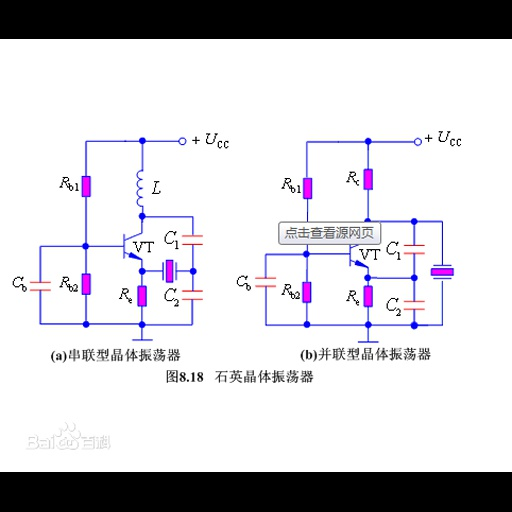capacitor: (26, 276, 55, 296), (252, 272, 278, 292), (402, 241, 428, 259), (180, 287, 206, 304), (404, 296, 429, 313), (183, 229, 204, 248)
firstresistance: (361, 164, 378, 193), (135, 282, 151, 310), (299, 279, 316, 305), (361, 283, 377, 310), (79, 172, 94, 200), (80, 270, 94, 299), (301, 174, 316, 201)
inductor: (131, 164, 148, 209)
npn: (114, 227, 147, 261), (341, 237, 373, 270)
